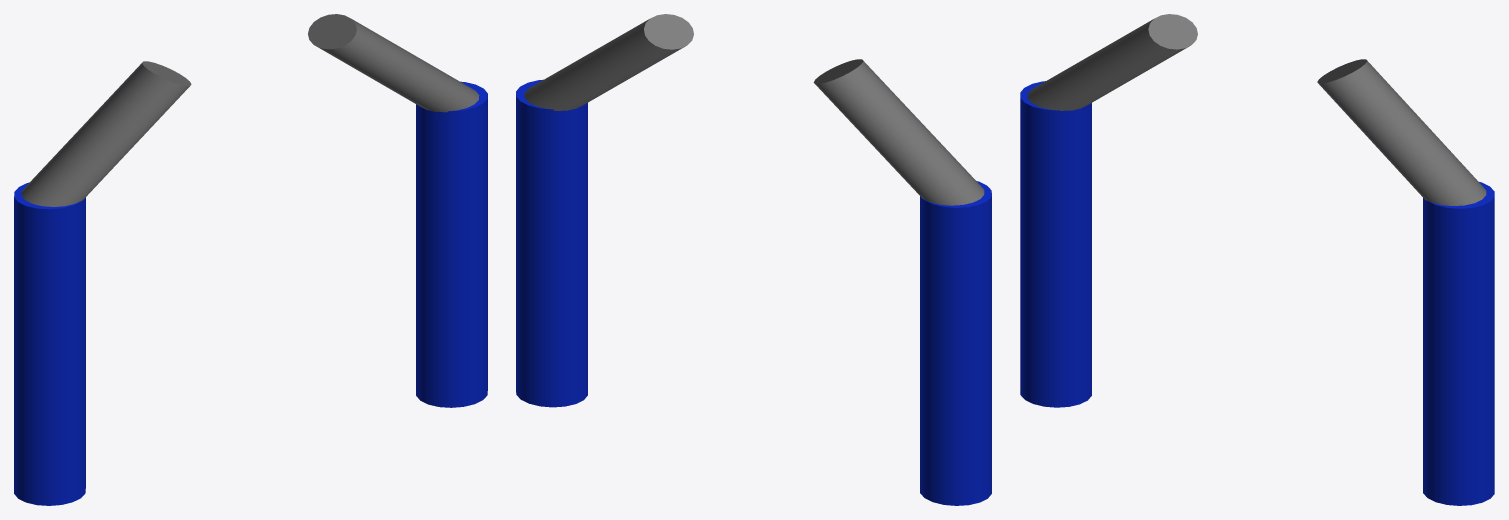
File: arco.obj
The picture shows the model from 3 angles, left to right: view 1: azimuth 30°, elevation 25°; view 2: azimuth 150°, elevation 25°; view 3: azimuth 330°, elevation 25°; orthographic projection.
Parts seen in each view (by area): view 1: Cylinder001, Cylinder002, Cylinder003, Cylinder004; view 2: Cylinder001, Cylinder002, Cylinder003, Cylinder004; view 3: Cylinder002, Cylinder001, Cylinder004, Cylinder003.
Boxes of the visible parts, x1,y1,x2,y2 form: Cylinder001: [14, 182, 85, 505]; Cylinder002: [416, 81, 487, 407]; Cylinder003: [21, 61, 191, 206]; Cylinder004: [308, 14, 479, 112]; Cylinder001: [920, 181, 991, 505]; Cylinder002: [516, 79, 587, 407]; Cylinder003: [813, 59, 984, 205]; Cylinder004: [524, 14, 693, 110]; Cylinder002: [1423, 182, 1494, 505]; Cylinder001: [1020, 81, 1091, 407]; Cylinder004: [1317, 59, 1486, 205]; Cylinder003: [1027, 14, 1197, 110].
Bounding box in the file's own units: 31.5 × 25.69 × 4.1.
